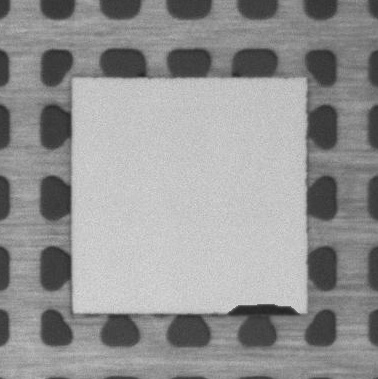DIE_BROKEN: (222, 302, 300, 318)
